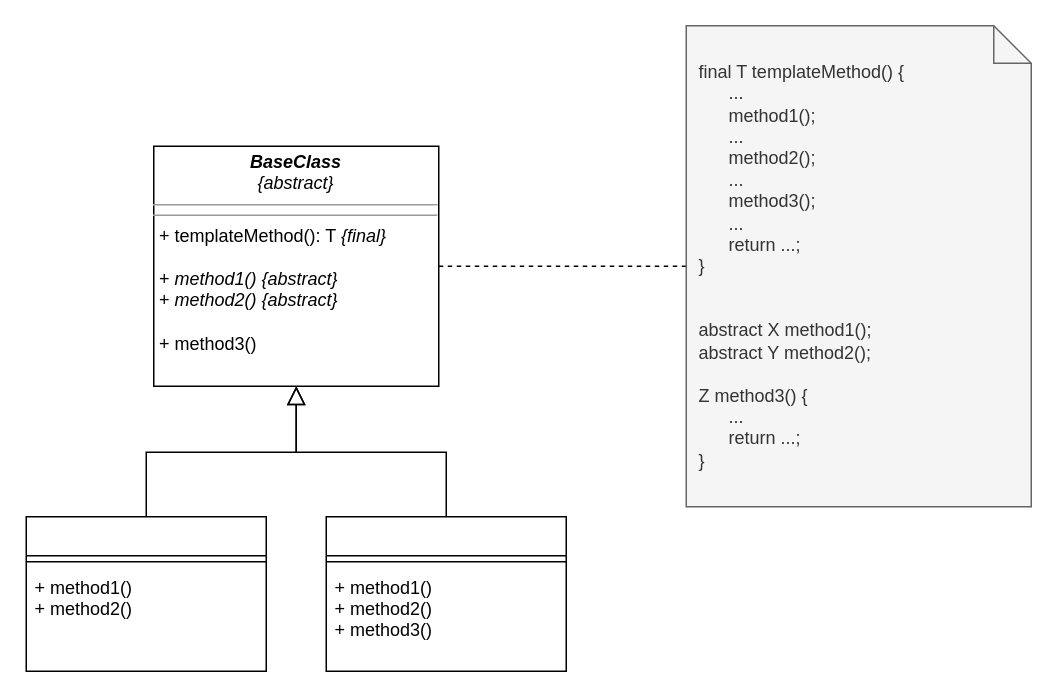
Some shapes in this 1058 by 699 pixel diagram are drawn without their labels. Each missing label, with the box of its shape:
SubClass1: (25, 515, 266, 671)
SubClass2: (325, 515, 566, 671)
